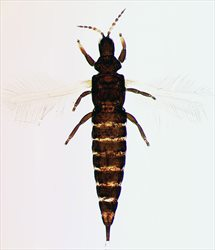Phlaeothripidae: (1, 8, 214, 245)
